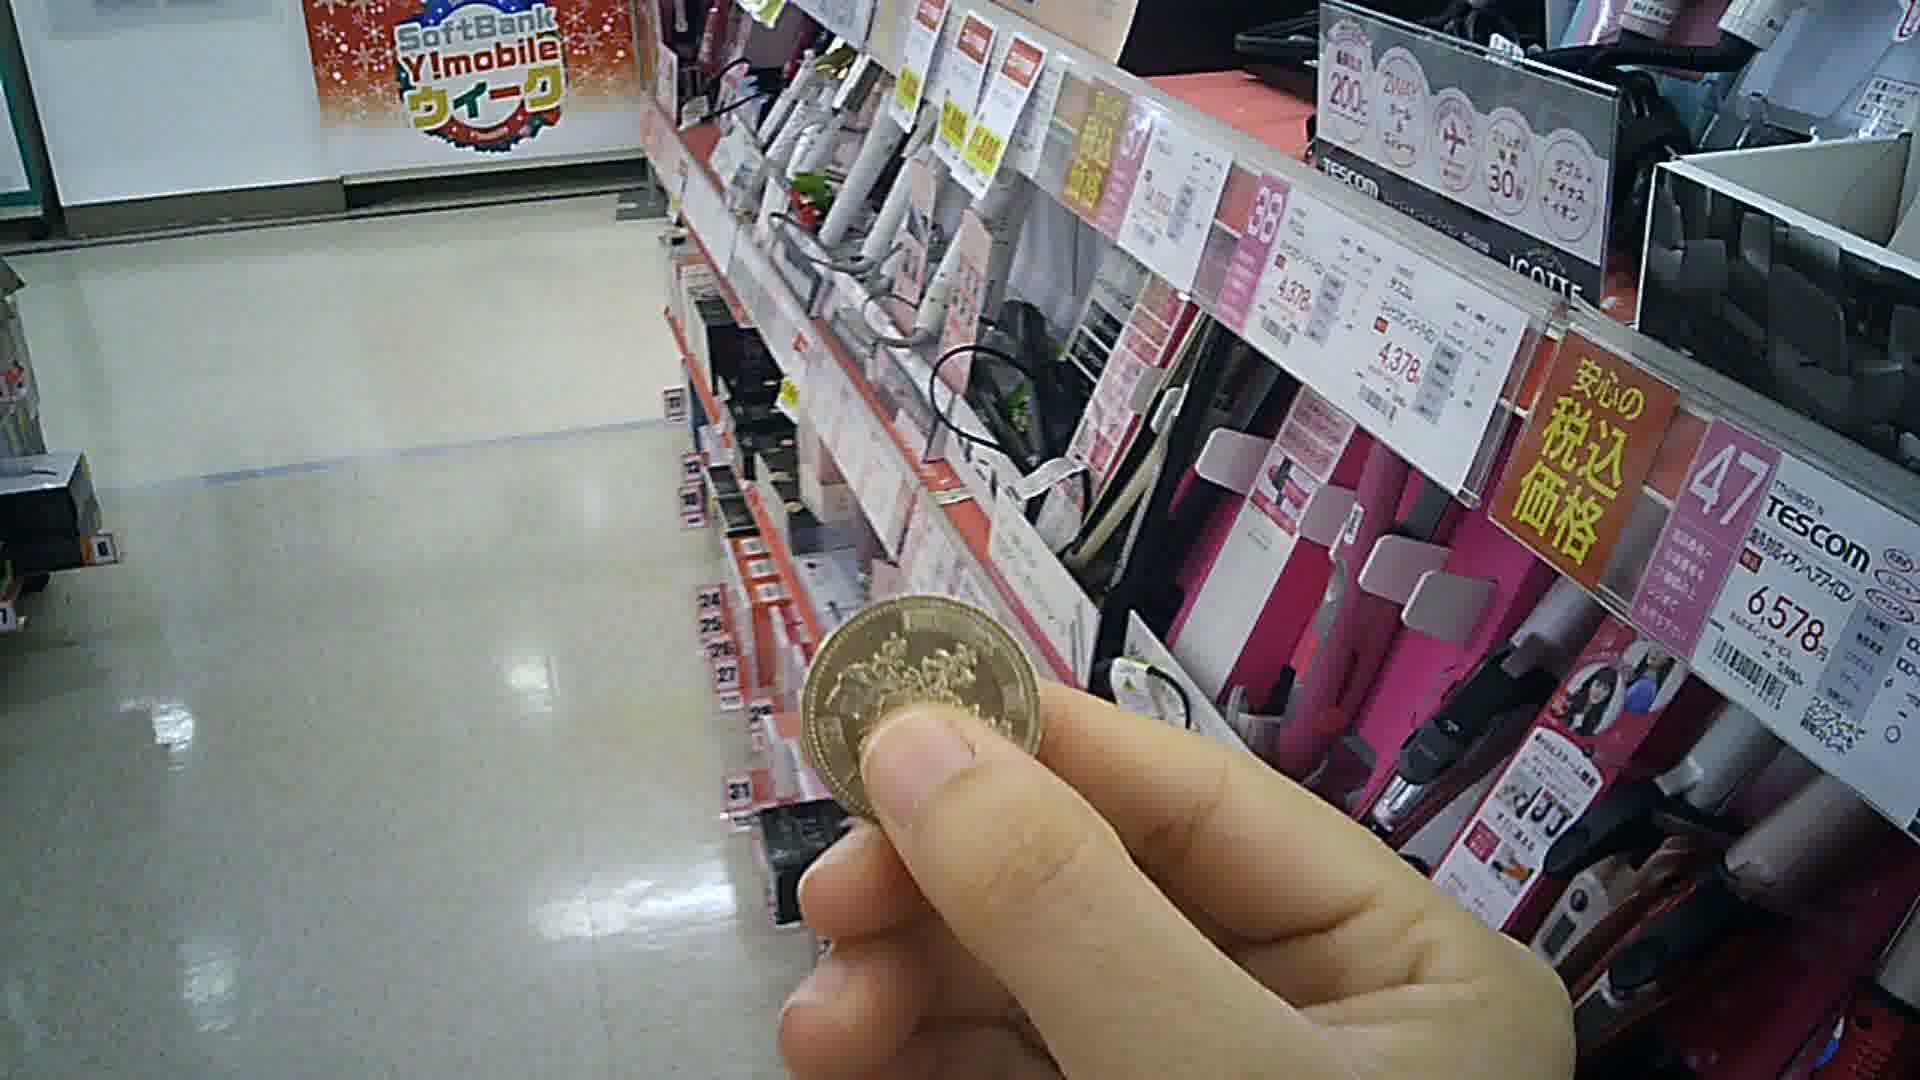500 Yen: (794, 588, 1054, 829)
